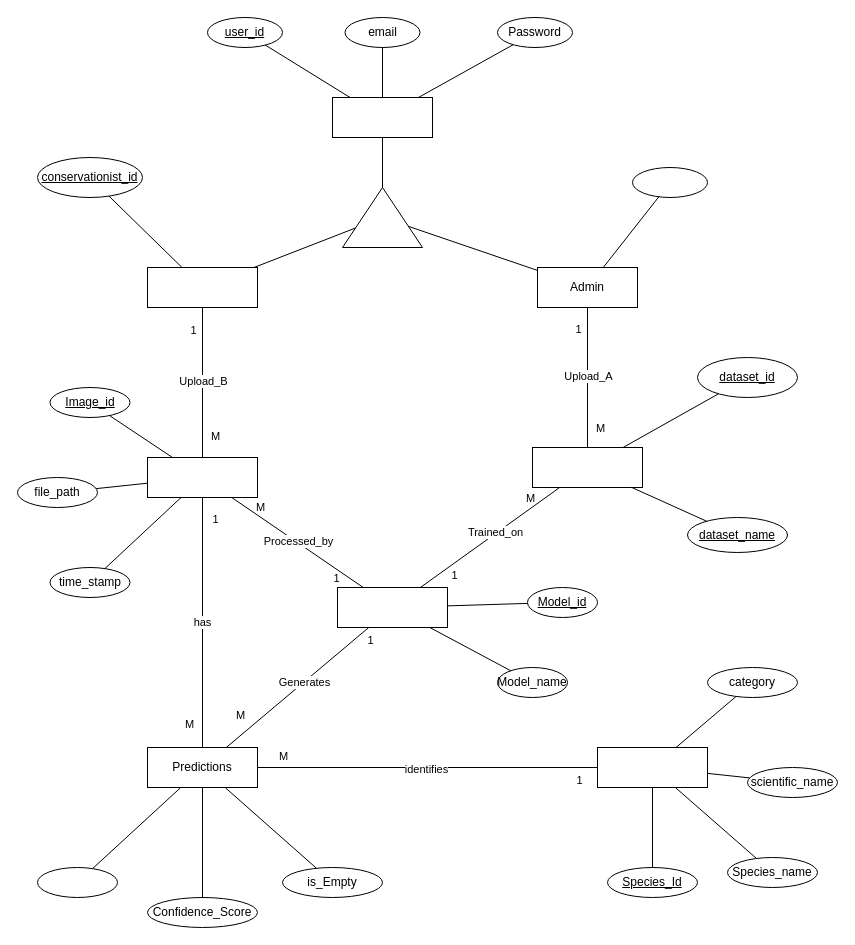
Image size: 855x945. Some labels were removed from this diagram. Here are the shapes that lost their labels. From the top down, the centre of each, then its label:
pixel 382 117: User
pixel 670 182: admin_id
pixel 382 217: ISA
pixel 202 287: Conservationist
pixel 202 477: Images
pixel 587 467: Dataset
pixel 392 607: Model
pixel 652 767: Species
pixel 77 882: Prediction_Id
